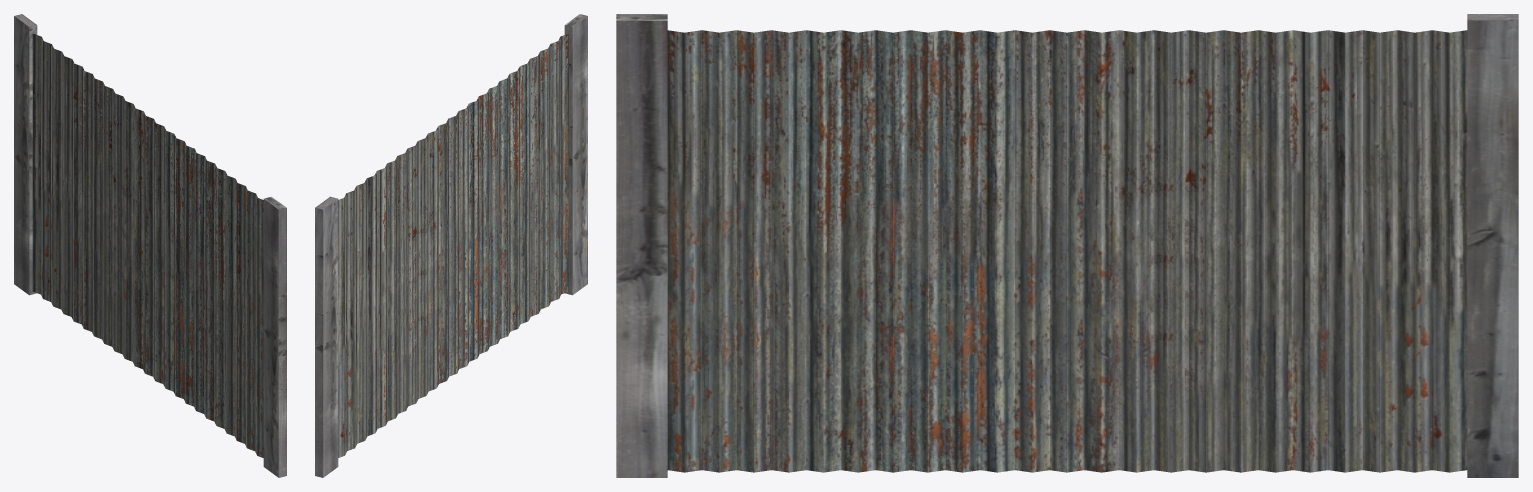
File: corrugated.fbx
3 views of the same model, side by side, from view 1: azimuth 30°, elevation 25°; view 2: azimuth 150°, elevation 25°; view 3: azimuth 270°, elevation 25° (orthographic). The views are drawn at different scales.
Parts seen in each view (by area): view 1: corrugated; view 2: corrugated; view 3: corrugated.
Part boxes in pixels (left/top/right/bottom): corrugated: left=14, top=14, right=286, bottom=477; corrugated: left=315, top=14, right=587, bottom=477; corrugated: left=616, top=14, right=1518, bottom=477.
Bounding box in the file's own units: 0.0365 × 1.16 × 2.08.
